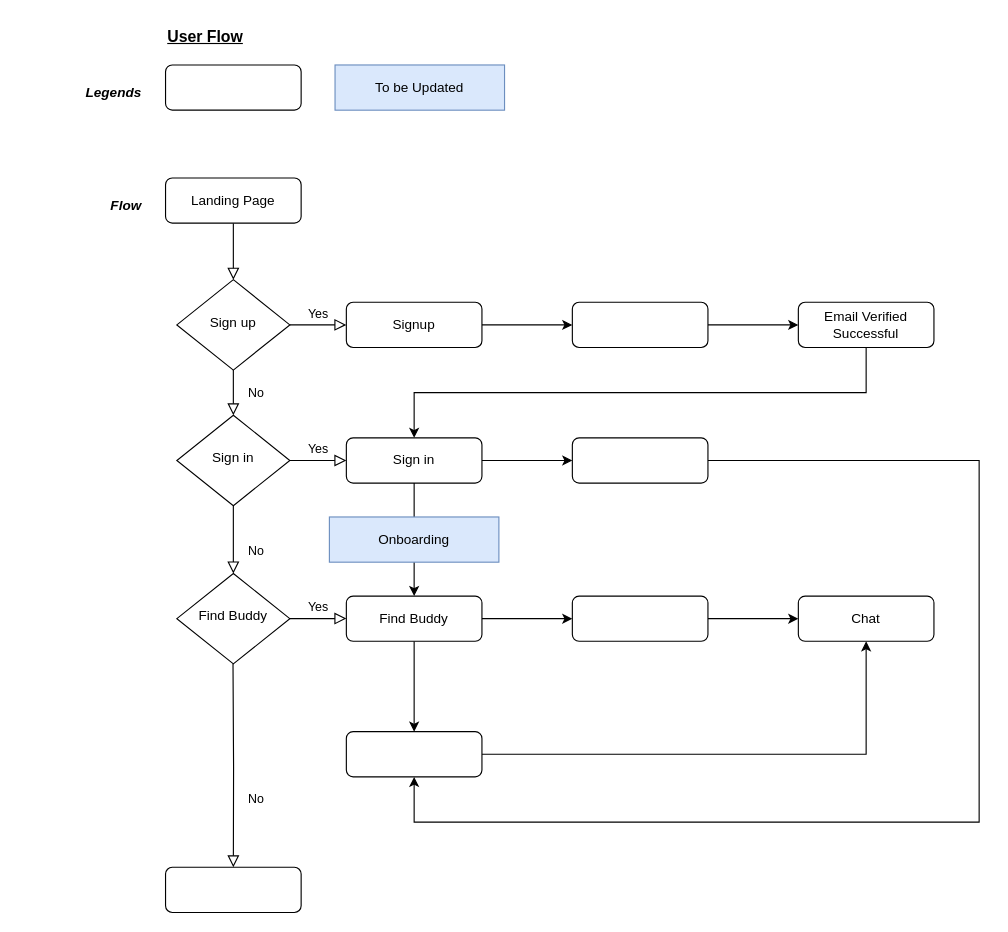
Image size: 1008x932. Some labels were removed from this diagram. Here are the shapes that lost their labels. From the top down, the box of each, then its label:
(164, 64, 301, 110): Flow Screen
(571, 301, 708, 347): Verify Email
(571, 437, 708, 483): My Profile
(571, 595, 708, 641): Buddy Detail
(345, 731, 482, 777): My Buddy
(164, 866, 301, 912): Exit
